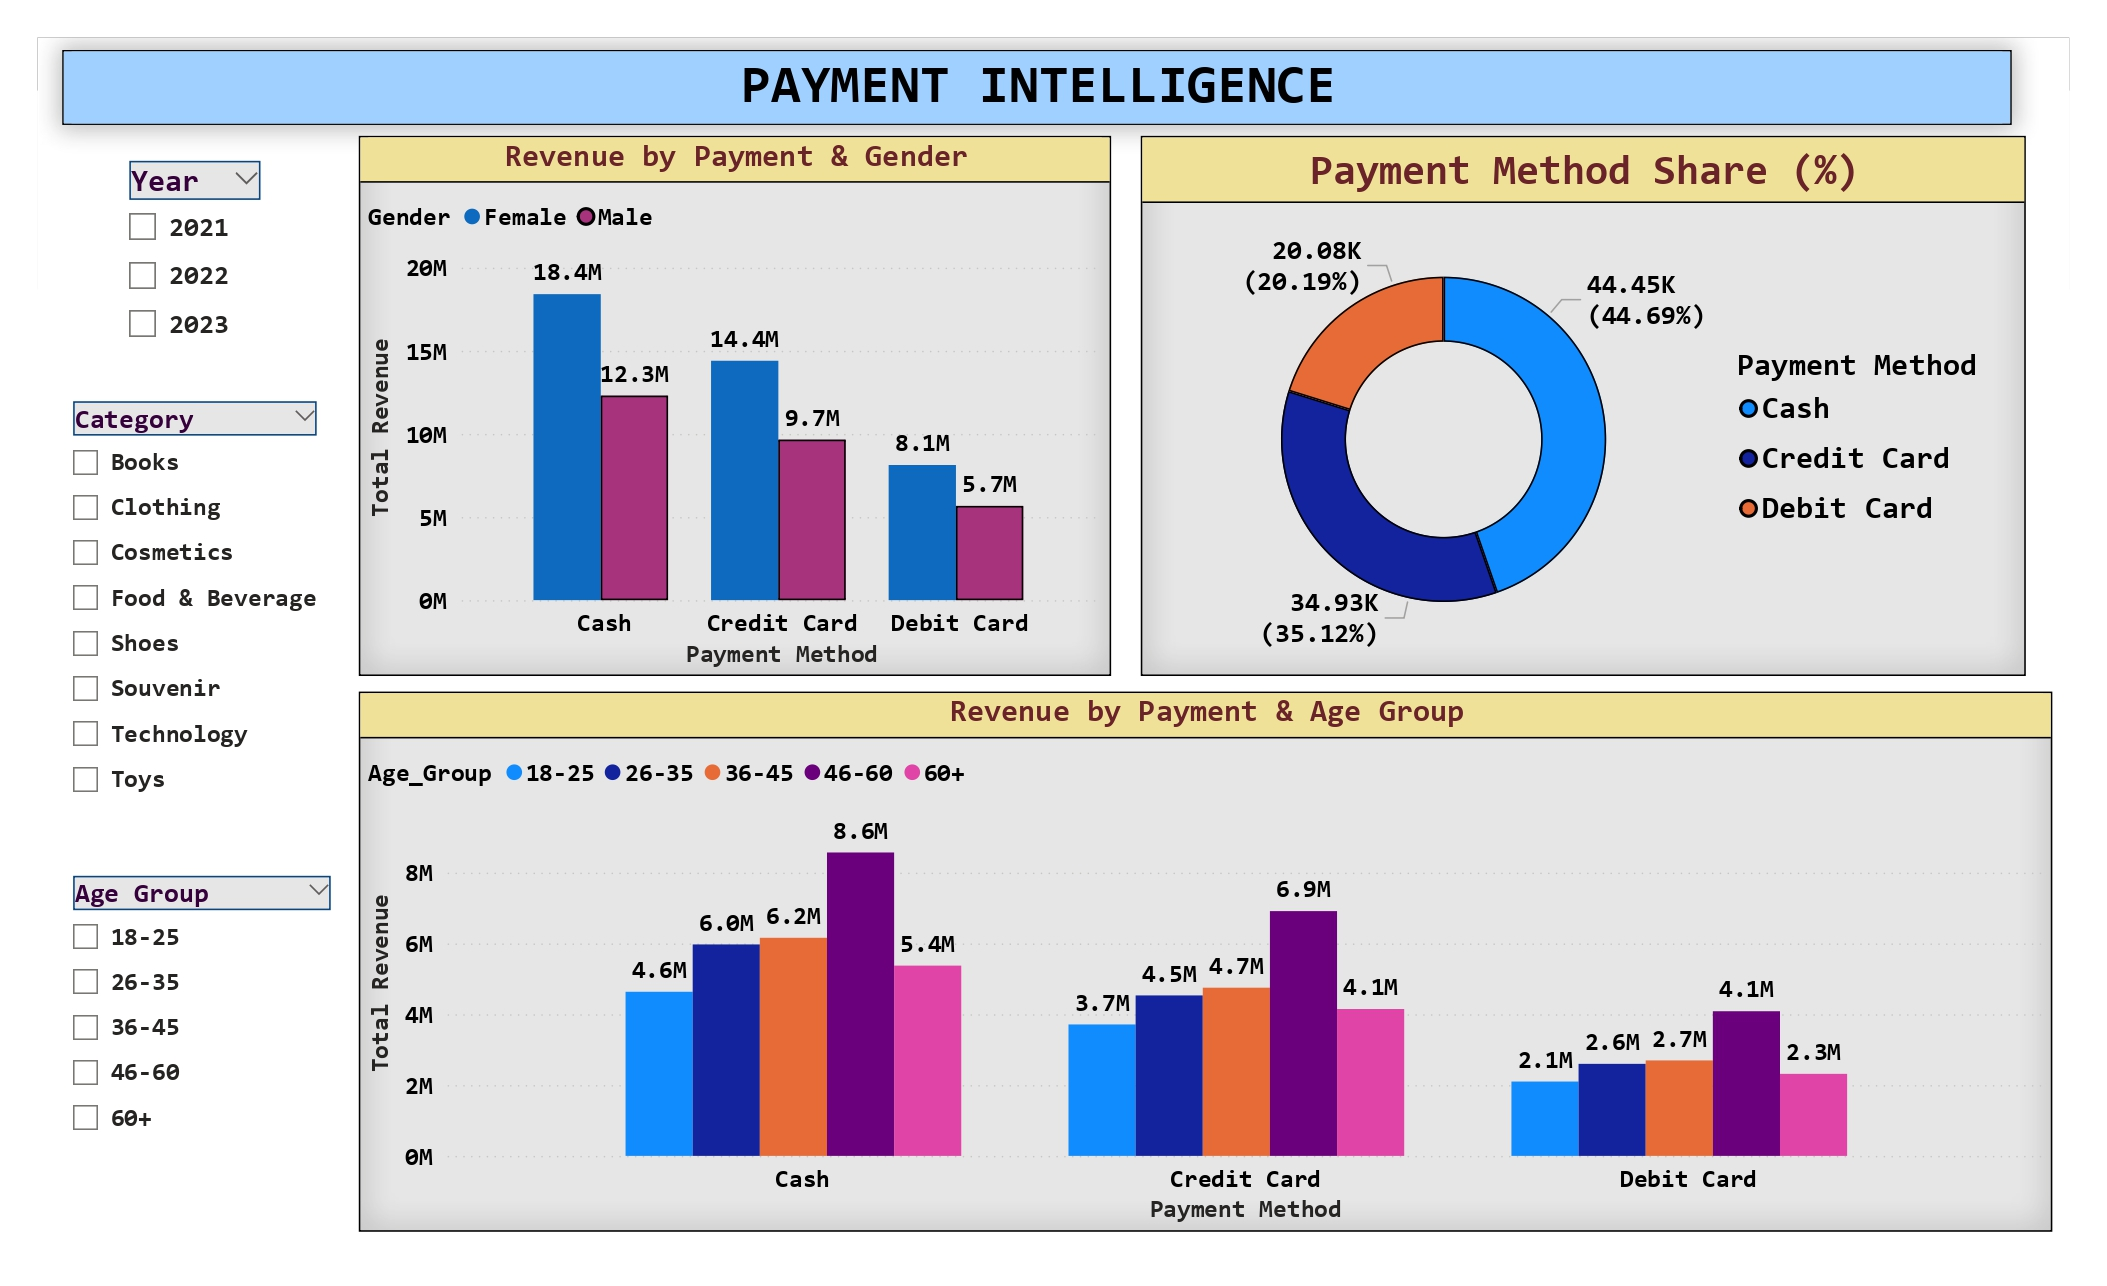

The page's visual inventory and layout, read from the dashboard file:
{"tool":"powerbi","page":{"name":"Dashboard_Payment_Intelligence","canvas":[1300,775],"ordinal":14},"visuals":[{"type":"textbox","title":"PAYMENT INTELLIGENCE","box":[14.7,8,1249.7,48],"z":0},{"type":"slicer","fields":{"Values":["customer.category"]},"box":[9.2,227.7,181.6,281.7],"z":1000},{"type":"slicer","fields":{"Values":["customer.invoice_date.Variation.Date Hierarchy.Year"]},"box":[44.8,73.7,110.6,140.8],"z":2000},{"type":"slicer","fields":{"Values":["customer.age_group"]},"box":[9.2,531.8,190.9,202.7],"z":3000},{"type":"clusteredColumnChart","title":"Revenue by Payment & Gender","fields":{"Category":["customer.payment_method"],"Series":["customer.gender"],"Y":["Sum(customer.revenue)"]},"box":[205.3,63.2,481.7,346.2],"z":4000},{"type":"donutChart","title":"Payment Method Share (%)","fields":{"Category":["customer.payment_method"],"Y":["CountNonNull(customer.invoice_no)"]},"box":[705.5,63.2,567.3,346.2],"z":5000},{"type":"clusteredColumnChart","title":"Revenue by Payment & Age Group","fields":{"Category":["customer.payment_method"],"Y":["Sum(customer.revenue)"],"Series":["customer.age_group"]},"box":[205.3,418.6,1084.6,346.2],"z":6000}]}

Visuals, with their boxes on the page's 1300x775 design canvas (x1, y1, x2, y2). These are canvas units, not pixel positions in the 2107x1286 screenshot, which may show the page scaled, cropped or inside an application window:
"PAYMENT INTELLIGENCE" textbox: box(15, 8, 1264, 56)
slicer - customer.category: box(9, 228, 191, 509)
slicer - customer.invoice_date.Variation.Date Hierarchy.Year: box(45, 74, 155, 214)
slicer - customer.age_group: box(9, 532, 200, 734)
"Revenue by Payment & Gender" clusteredColumnChart: box(205, 63, 687, 409)
"Payment Method Share (%)" donutChart: box(706, 63, 1273, 409)
"Revenue by Payment & Age Group" clusteredColumnChart: box(205, 419, 1290, 765)
